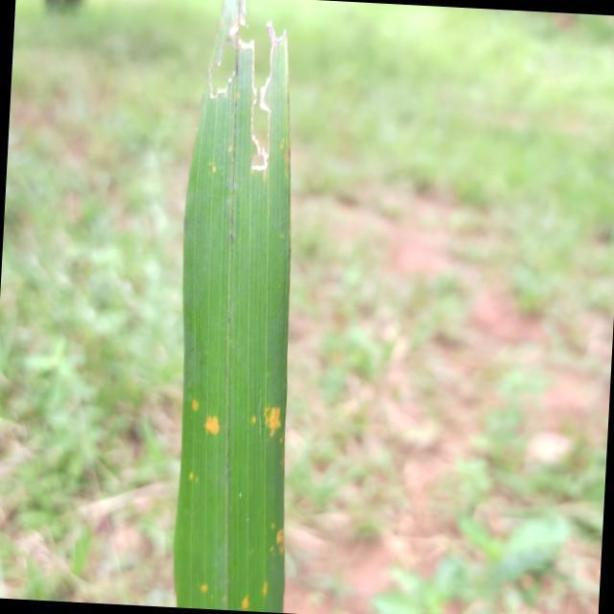Kalium: (170, 1, 289, 614)
